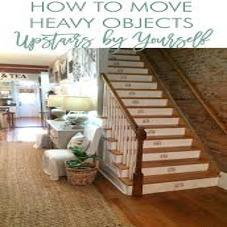Bench: (123, 97, 218, 185)
